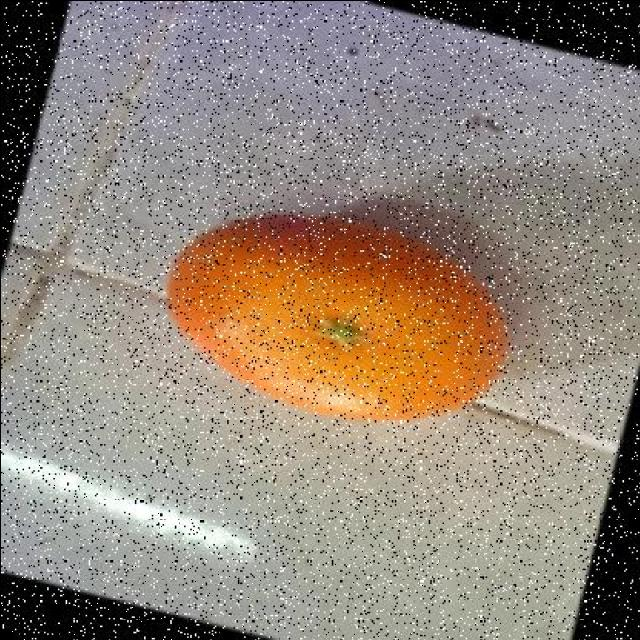Orange: (164, 212, 510, 424)
